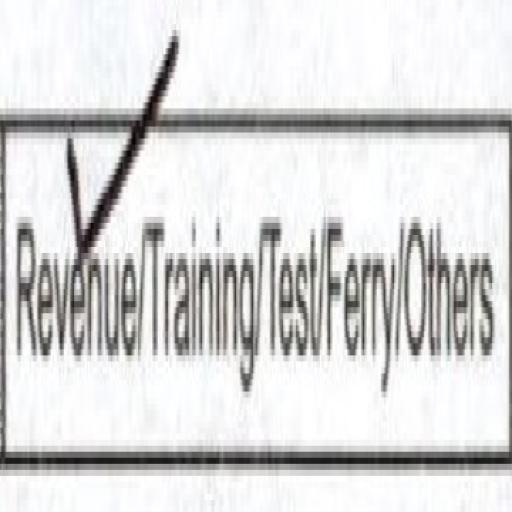check: (0, 9, 140, 495)
